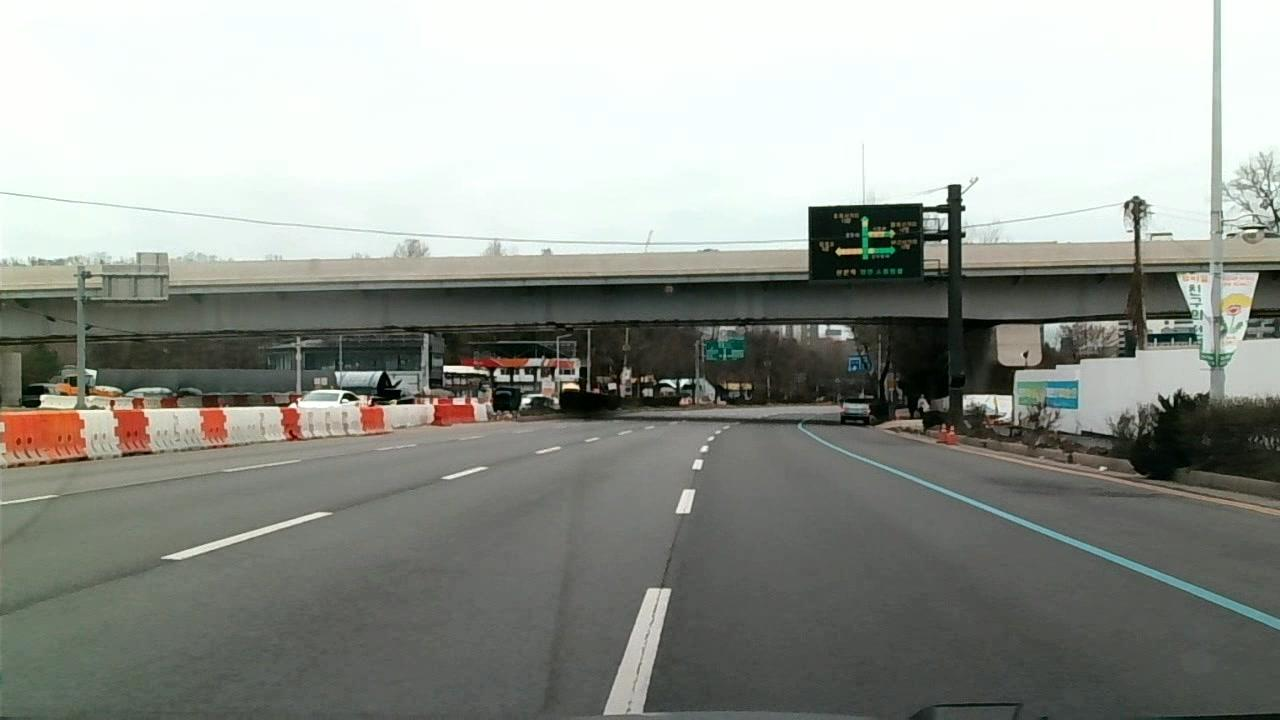vcrack: (625, 617, 655, 719), (654, 517, 683, 610), (687, 471, 699, 488)
